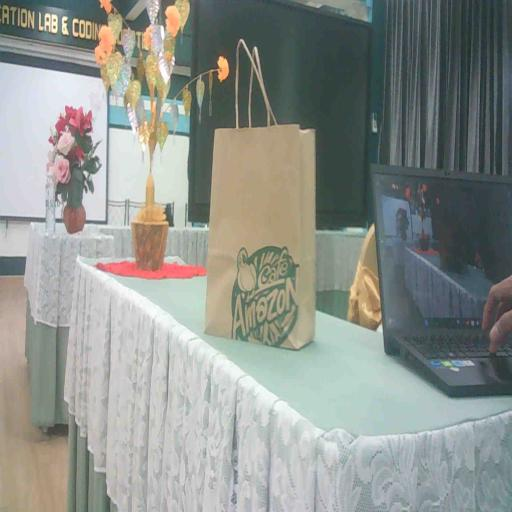bag: (197, 114, 332, 366)
